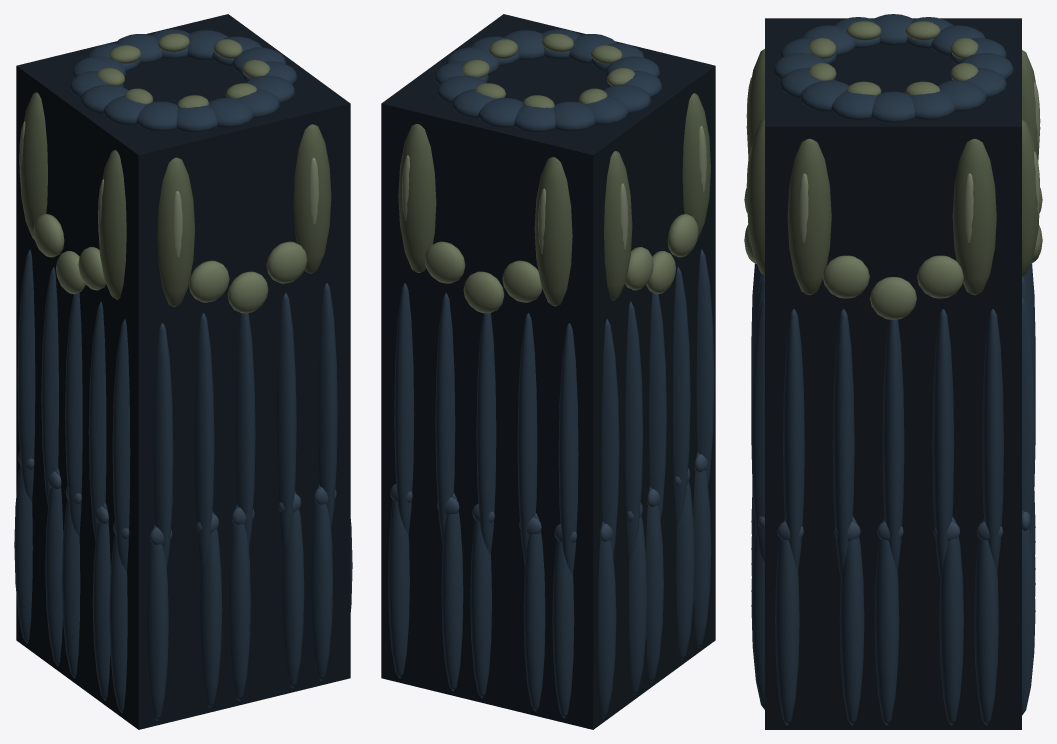
Rendered from CMU3DBoneResinWall.glb.
3 renders of one model, left to right at view 1: azimuth 30°, elevation 25°; view 2: azimuth 150°, elevation 25°; view 3: azimuth 270°, elevation 25°, orthographic. The views are drawn at different scales.
Visible parts, largest first — view 1: dark resin wall mass, upper branching chitin rib (×10), lower branching chitin rib (×10), upper olive bone cluster (×4), connected chitin crown rim (×12), curved bone ridge (×6); view 2: dark resin wall mass, upper branching chitin rib (×10), lower branching chitin rib (×10), upper olive bone cluster (×4), connected chitin crown rim (×12), curved bone ridge (×6); view 3: dark resin wall mass, upper branching chitin rib (×7), lower branching chitin rib (×7), upper olive bone cluster (×6), connected chitin crown rim (×14), curved bone ridge (×3), bone highlight (×2), pale bone crown ring (×2).
Boxes of the visible parts, left/top/right/bottom form: dark resin wall mass: left=16, top=14, right=350, bottom=729; upper branching chitin rib (×10): left=17, top=249, right=337, bottom=570; lower branching chitin rib (×10): left=14, top=465, right=332, bottom=720; upper olive bone cluster (×4): left=20, top=92, right=331, bottom=306; connected chitin crown rim (×12): left=69, top=30, right=294, bottom=131; curved bone ridge (×6): left=33, top=214, right=307, bottom=313; dark resin wall mass: left=381, top=14, right=715, bottom=729; upper branching chitin rib (×10): left=394, top=249, right=714, bottom=574; lower branching chitin rib (×10): left=388, top=452, right=711, bottom=718; upper olive bone cluster (×4): left=398, top=93, right=710, bottom=306; connected chitin crown rim (×12): left=437, top=30, right=662, bottom=131; curved bone ridge (×6): left=424, top=214, right=698, bottom=313; dark resin wall mass: left=765, top=18, right=1021, bottom=729; upper branching chitin rib (×7): left=751, top=297, right=1035, bottom=576; lower branching chitin rib (×7): left=751, top=510, right=1035, bottom=725; upper olive bone cluster (×6): left=746, top=49, right=1040, bottom=295; connected chitin crown rim (×14): left=773, top=14, right=1013, bottom=122; curved bone ridge (×3): left=823, top=255, right=963, bottom=319; bone highlight (×2): left=798, top=173, right=973, bottom=242; pale bone crown ring (×2): left=846, top=21, right=940, bottom=40.
Bounding box in the file's own units: 1.14 × 2.62 × 1.14.
